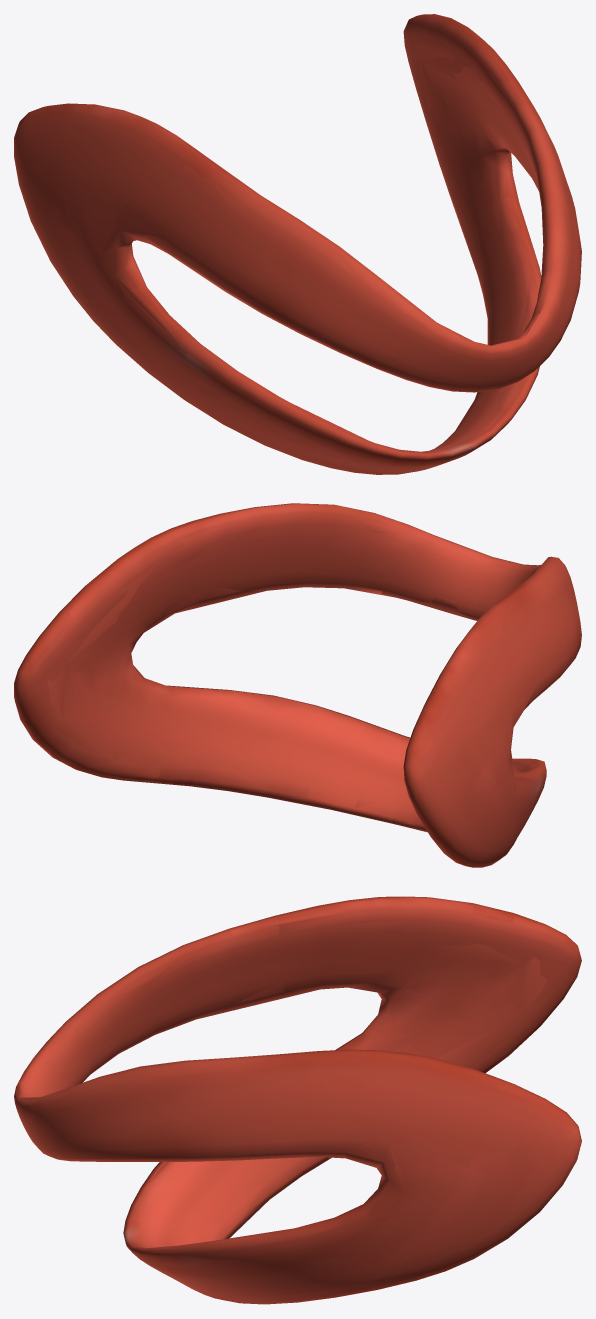
File: orbicularis oris marginalis.fbx
3 renders of one model, top to bottom at view 1: azimuth 30°, elevation 25°; view 2: azimuth 150°, elevation 25°; view 3: azimuth 270°, elevation 25°, orthographic. The views are drawn at different scales.
Parts seen in each view (by area): view 1: orbicularis oris marginalis, orbicularis oris marginalis low; view 2: orbicularis oris marginalis, orbicularis oris marginalis low; view 3: orbicularis oris marginalis, orbicularis oris marginalis low.
Boxes of the visible parts, box(x1,y1,x2,y2) form: orbicularis oris marginalis: box(14, 14, 581, 474); orbicularis oris marginalis low: box(17, 14, 578, 467); orbicularis oris marginalis: box(14, 503, 581, 867); orbicularis oris marginalis low: box(14, 504, 573, 867); orbicularis oris marginalis: box(14, 896, 581, 1304); orbicularis oris marginalis low: box(14, 898, 580, 1304).
Size of the model in its own units: 8.47 by 6.12 by 10.38.
Materials: 1 (1 with a texture image).
